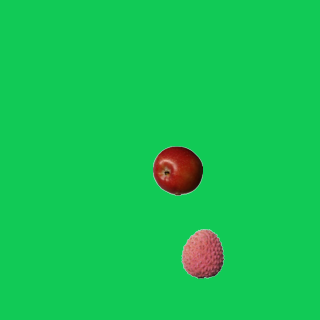Apple Braeburn: (152, 145, 202, 195)
Lychee: (177, 228, 227, 278)
